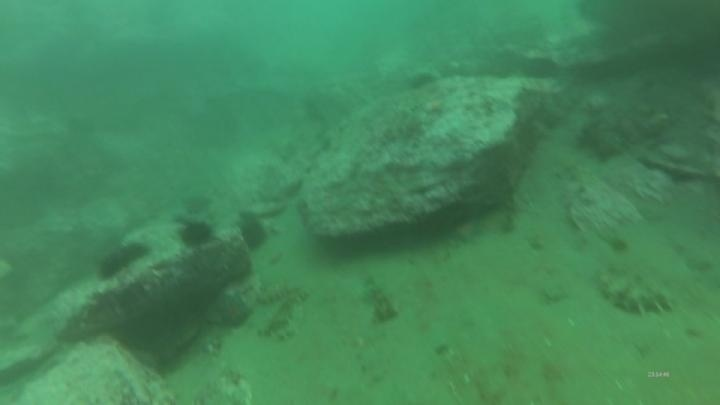echinus: (95, 241, 148, 283), (236, 213, 270, 253), (177, 218, 216, 250), (180, 191, 214, 217)
holothurian: (594, 263, 677, 319), (261, 290, 309, 334), (250, 278, 311, 309)
starfish: (209, 290, 255, 333)
